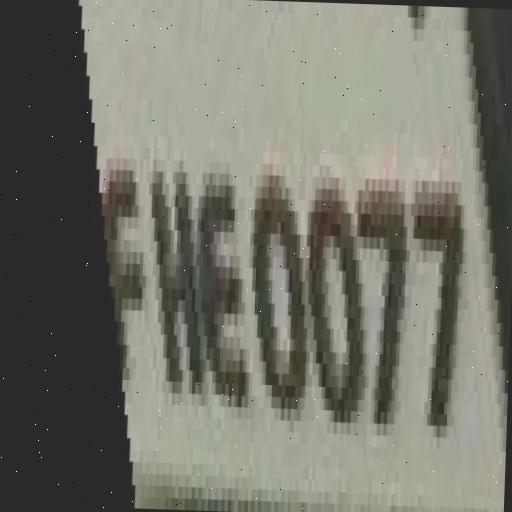number plate: (9, 15, 512, 486)
